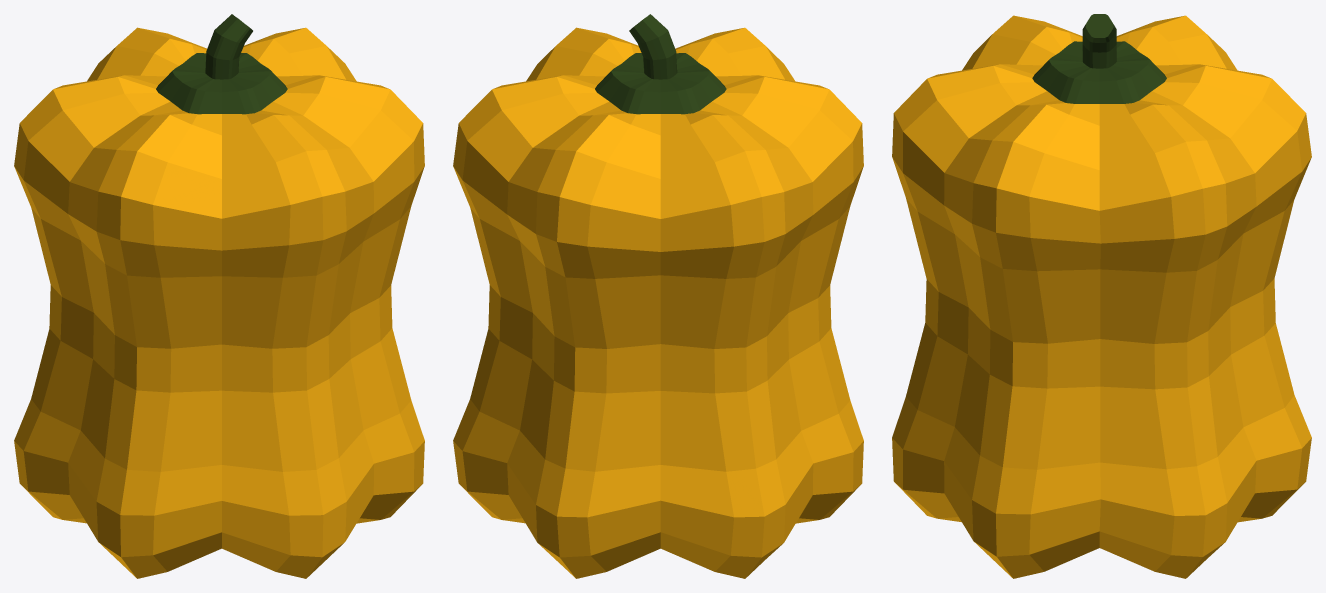
Rendered from bell_pepper_yellow.fbx.
3 renders of one model, left to right at view 1: azimuth 30°, elevation 25°; view 2: azimuth 150°, elevation 25°; view 3: azimuth 270°, elevation 25°, orthographic. The views are drawn at different scales.
Parts seen in each view (by area): view 1: bell_pepper_yellow; view 2: bell_pepper_yellow; view 3: bell_pepper_yellow.
Part boxes in pixels (box(x1,y1,x2,y2)): bell_pepper_yellow: box(14, 14, 424, 578); bell_pepper_yellow: box(453, 14, 863, 578); bell_pepper_yellow: box(892, 14, 1311, 578).
Bounding box in the file's own units: 82.57 × 124 × 91.04.
